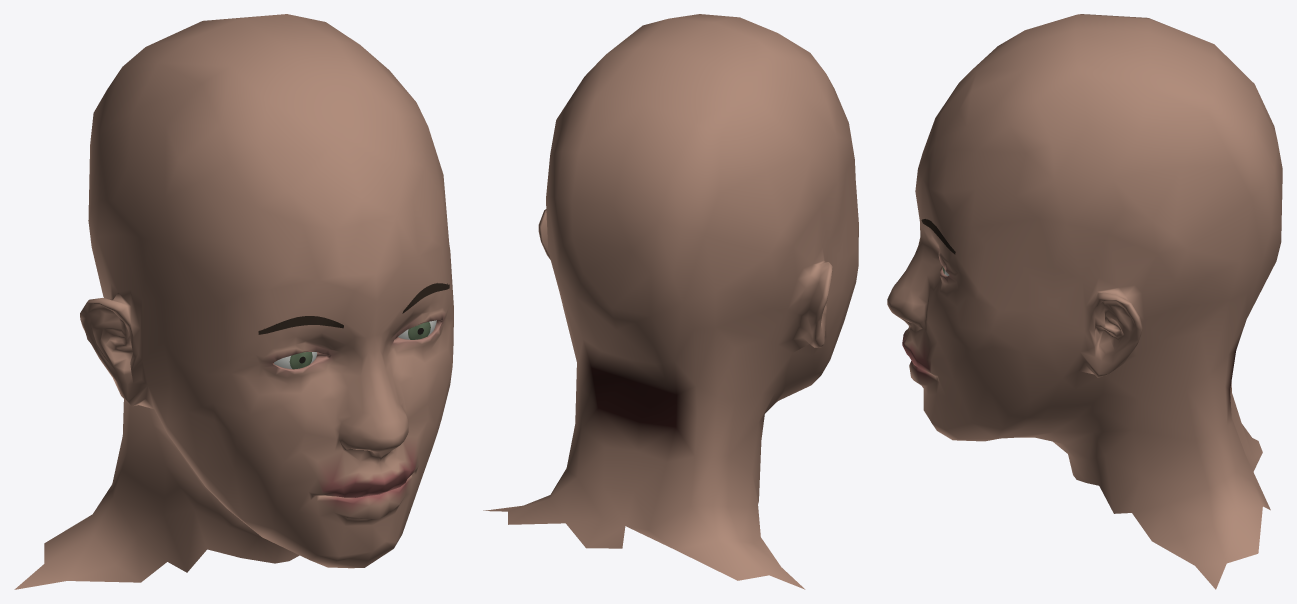
The model's file is player-head-mid.glb.
The picture shows the model from 3 angles, left to right: view 1: azimuth 30°, elevation 25°; view 2: azimuth 150°, elevation 25°; view 3: azimuth 270°, elevation 25°; orthographic projection. The views are drawn at different scales.
Parts seen in each view (by area): view 1: Fictional anatomical player head mid; view 2: Fictional anatomical player head mid; view 3: Fictional anatomical player head mid.
Part boxes in pixels (bbox=[...]): Fictional anatomical player head mid: bbox=[14, 14, 453, 589]; Fictional anatomical player head mid: bbox=[483, 14, 858, 589]; Fictional anatomical player head mid: bbox=[887, 14, 1282, 589].
Size of the model in its own units: 0.2363 by 0.3325 by 0.2481.
